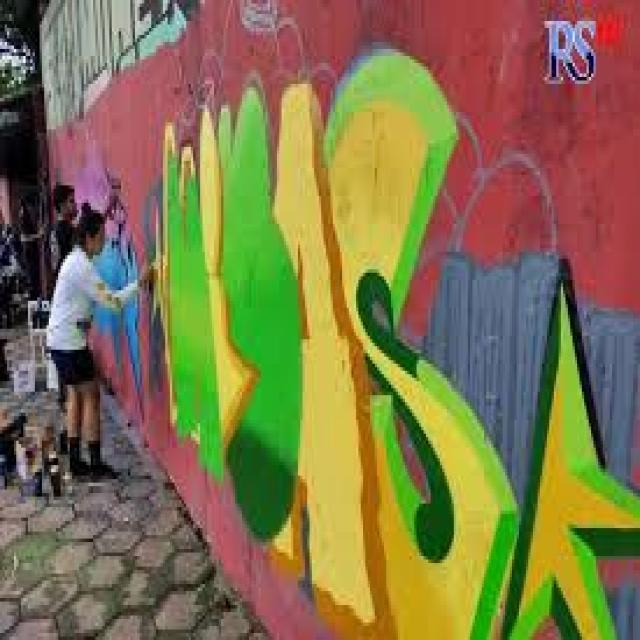-: (155, 37, 640, 639), (76, 242, 144, 390)
